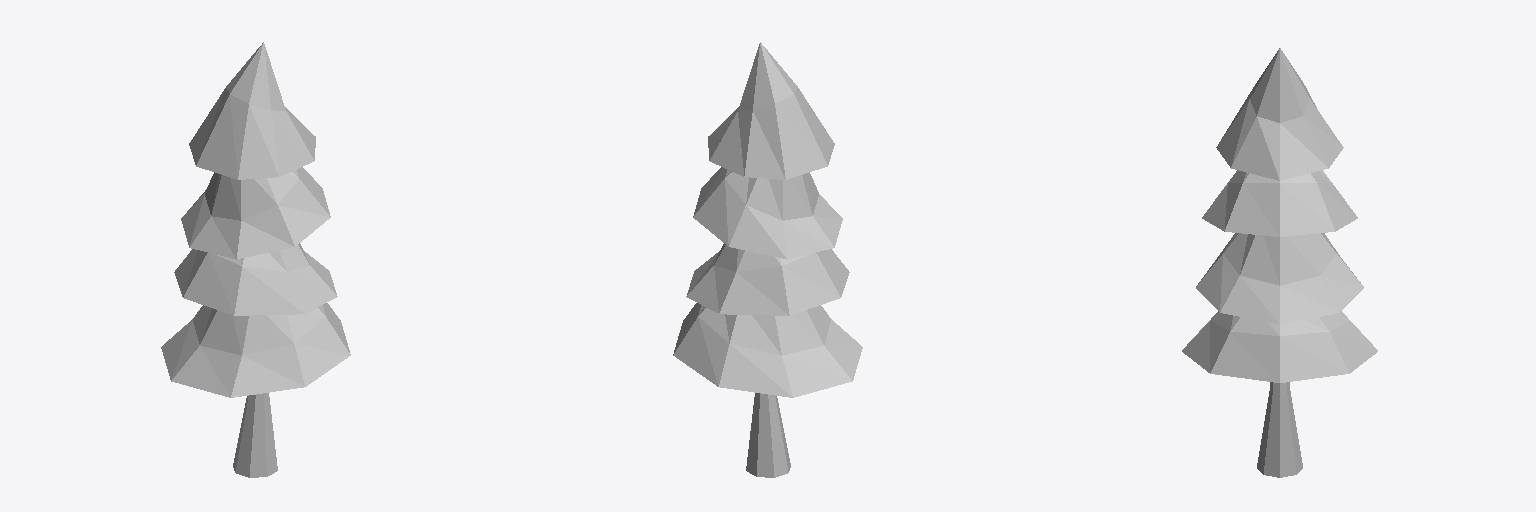
Rendered from big_needle_tree.obj.
3 views of the same model, side by side, from view 1: azimuth 30°, elevation 25°; view 2: azimuth 150°, elevation 25°; view 3: azimuth 270°, elevation 25° (orthographic).
Parts seen in each view (by area): view 1: Tree_2_Cylinder; view 2: Tree_2_Cylinder; view 3: Tree_2_Cylinder.
Part boxes in pixels (x1,y1,x2,y2): Tree_2_Cylinder: (161,42,350,477); Tree_2_Cylinder: (673,42,862,477); Tree_2_Cylinder: (1182,48,1377,477).
Bounding box in the file's own units: 2.31 × 5.52 × 2.33.